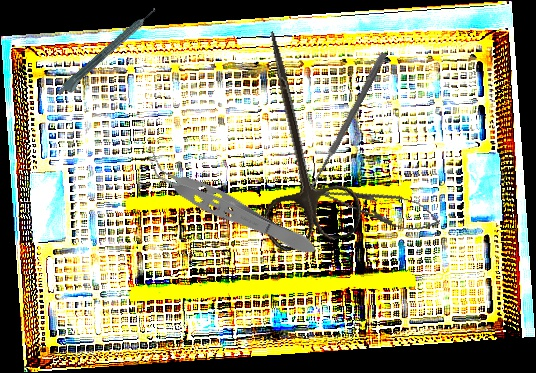Handpiece: (54, 5, 163, 102)
Iris Scissors: (220, 21, 367, 255)
Needle Holder: (308, 174, 444, 238)
Surgical Spoon: (303, 51, 388, 199)
Tissue Forceps: (135, 148, 324, 265)
